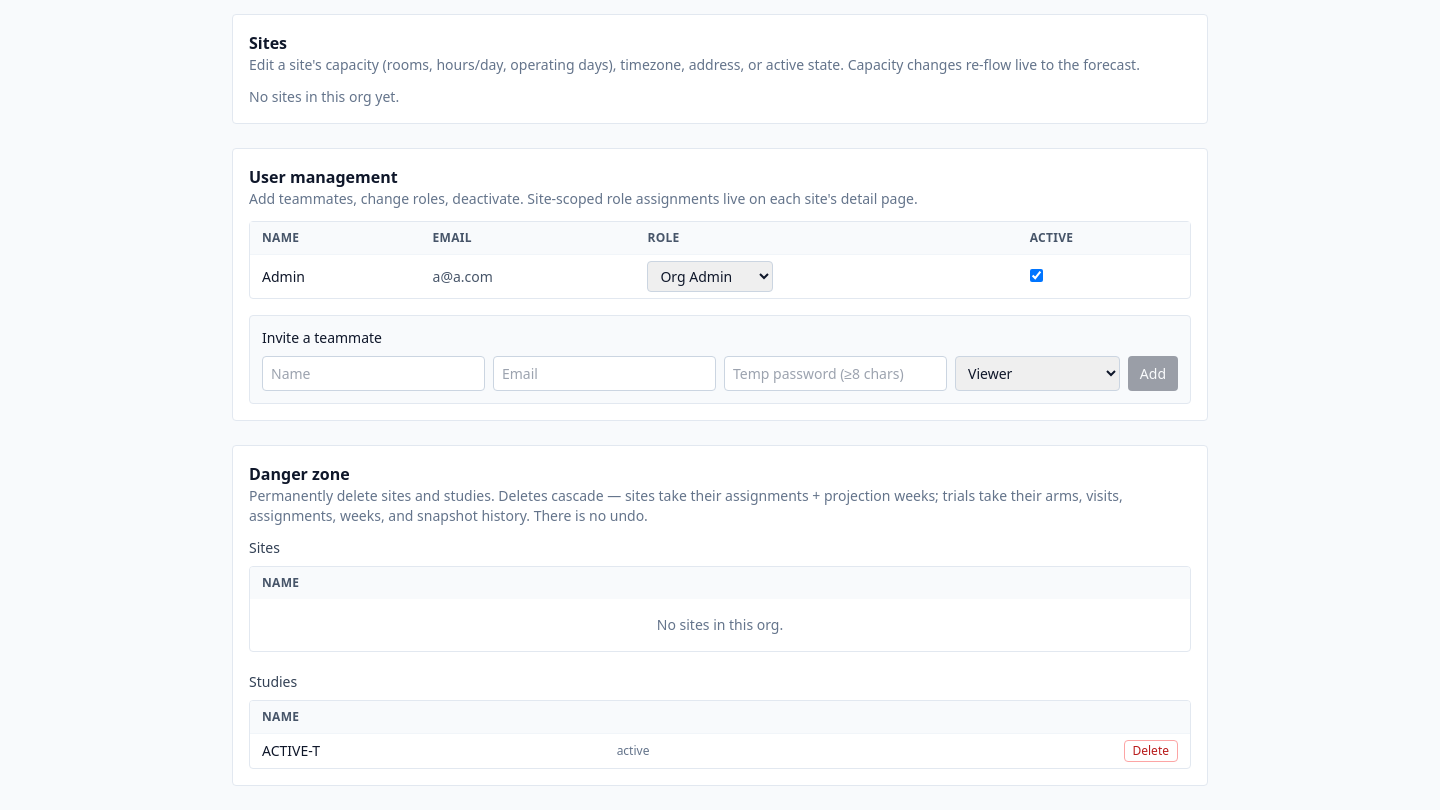
Scenario: AdminSettings › danger zone: opening a trial delete shows the active-block when status=active
(page scrolled)
Click the button with test id "danger-trial-delete-t1": (1151,751) x1=1124 y1=740 x2=1178 y2=762
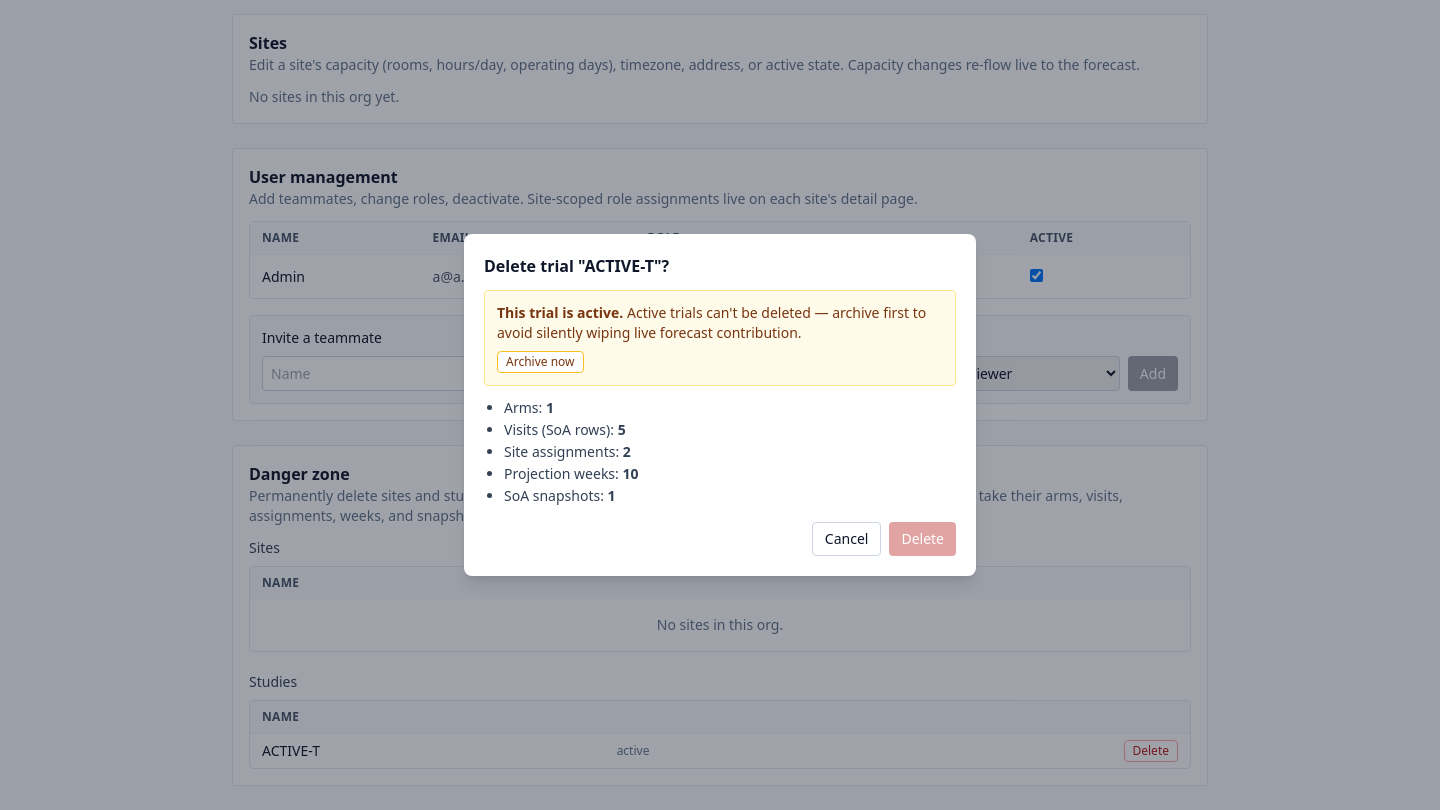
Result: the element with test id "danger-trial-modal" is shown
Result: the element with test id "danger-trial-active-block" is shown at x1=484 y1=290 x2=956 y2=386
Result: the button with test id "danger-trial-archive" is shown at x1=497 y1=351 x2=584 y2=373
